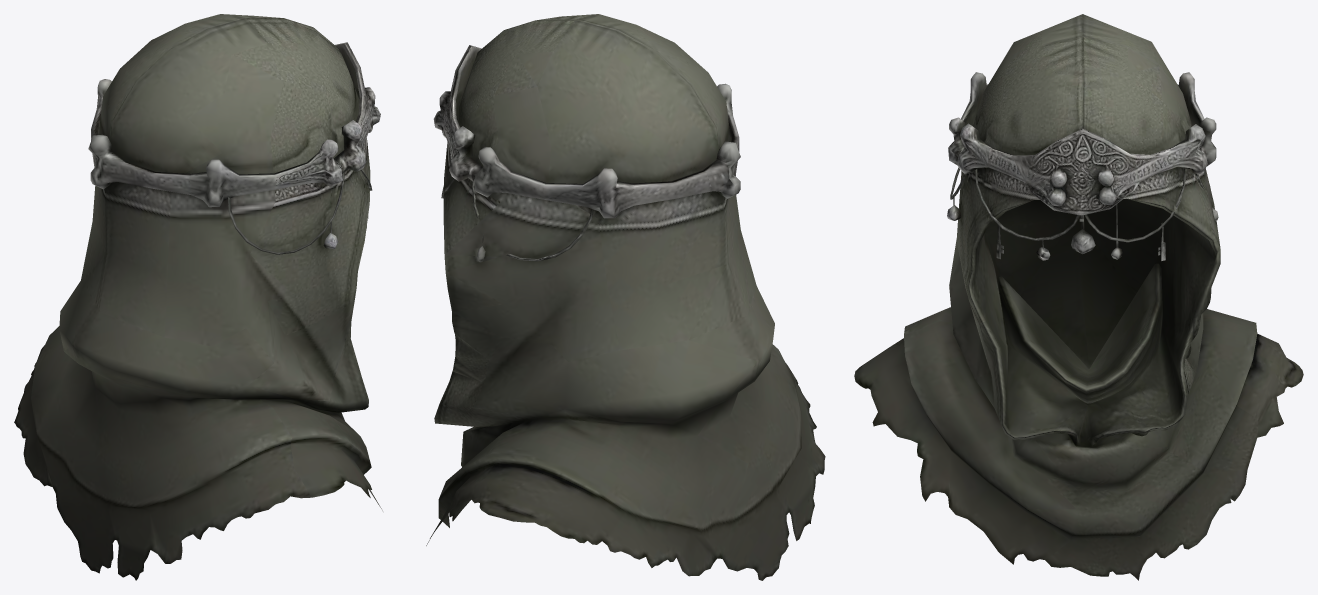
File: necro_helm_silver.glb
The picture shows the model from 3 angles, left to right: view 1: azimuth 30°, elevation 25°; view 2: azimuth 150°, elevation 25°; view 3: azimuth 270°, elevation 25°; orthographic projection. The views are drawn at different scales.
Parts seen in each view (by area): view 1: tripo_node_3aa99ff8-32cd-470c-87cb-3672c3f24a2a; view 2: tripo_node_3aa99ff8-32cd-470c-87cb-3672c3f24a2a; view 3: tripo_node_3aa99ff8-32cd-470c-87cb-3672c3f24a2a.
Part boxes in pixels (<box>): tripo_node_3aa99ff8-32cd-470c-87cb-3672c3f24a2a: <box>14,14,382,580</box>; tripo_node_3aa99ff8-32cd-470c-87cb-3672c3f24a2a: <box>426,14,825,580</box>; tripo_node_3aa99ff8-32cd-470c-87cb-3672c3f24a2a: <box>854,14,1303,580</box>.
Size of the model in its own units: 0.584 by 0.998 by 0.8144.
1 material, 1 textured.
